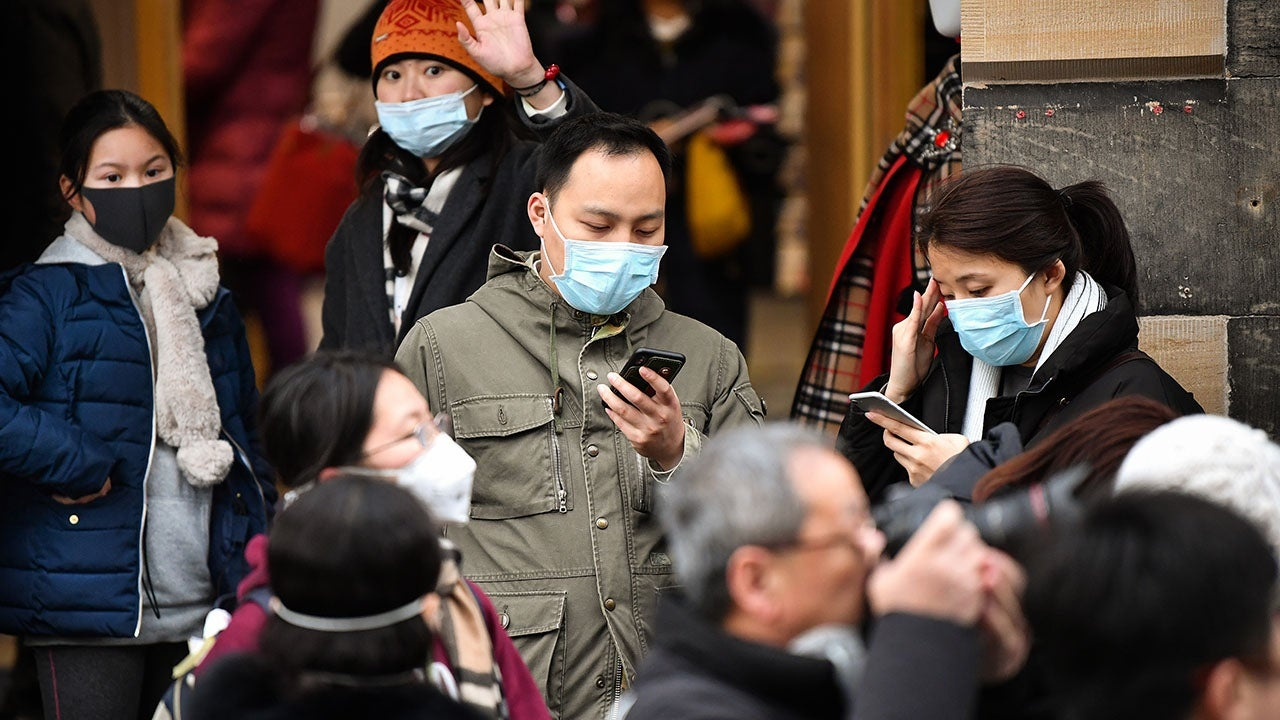with_incorrect_mask: (361, 47, 500, 145)
with_mask: (514, 137, 670, 312), (918, 224, 1066, 357), (57, 120, 187, 249)
